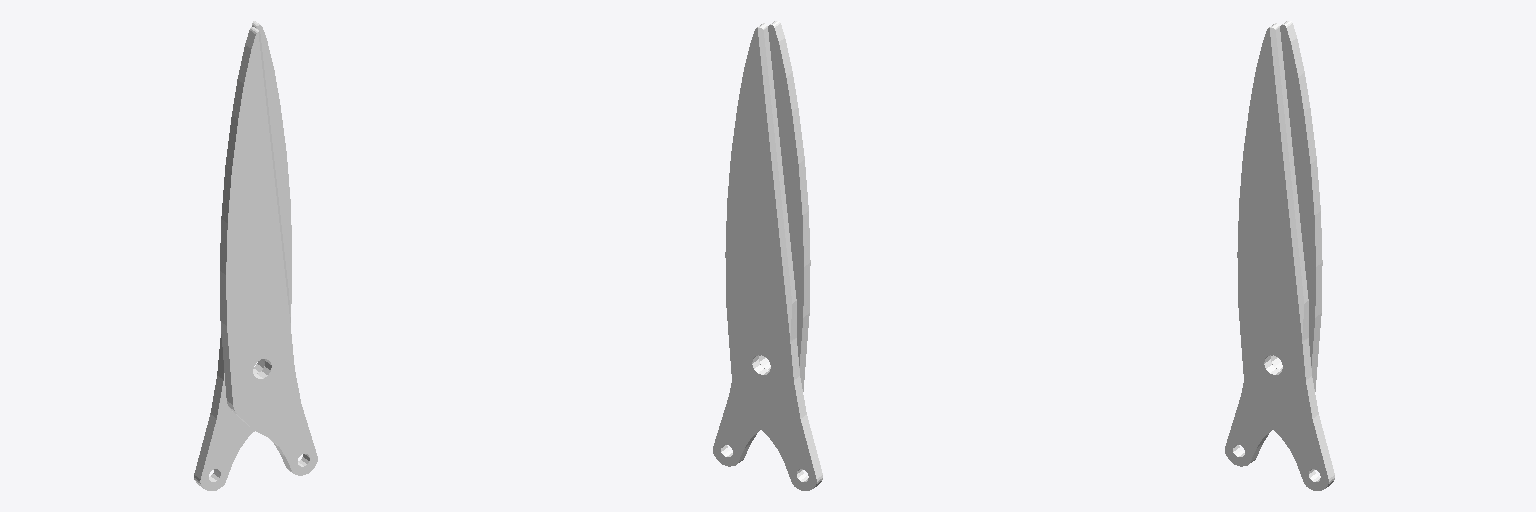
robot.urdf — only_scissors:
<?xml version="1.0" encoding="utf-8"?>
<!-- This URDF was automatically created by SolidWorks to URDF Exporter! Originally created by [author] ([email redacted]) 
     Commit Version: 1.6.0-4-g7f85cfe  Build Version: 1.6.7995.38578
     For more information, please see http://wiki.ros.org/sw_urdf_exporter -->
<robot
  name="only_scissors">
  <link name="base"/>
  <link
    name="link_0">
    <inertial>
      <origin
        xyz="0 0 0"
        rpy="0 0 0" />
      <mass
        value="0" />
      <inertia
        ixx="0"
        ixy="0"
        ixz="0"
        iyy="0"
        iyz="0"
        izz="0" />
    </inertial>
    <visual>
      <origin
        xyz="0 0 0"
        rpy="0 0 0" />
      <geometry>
        <mesh
          filename="package://only_scissors/meshes/link_r.STL" />
      </geometry>
      <material
        name="">
        <color
          rgba="1 1 1 1" />
      </material>
    </visual>
    <collision>
      <origin
        xyz="0 0 0"
        rpy="0 0 0" />
      <geometry>
        <mesh
          filename="package://only_scissors/meshes/link_r.STL" />
      </geometry>
    </collision>
  </link>

  <link
    name="link_1">
    <inertial>
      <origin
        xyz="0 0 0"
        rpy="0 0 0" />
      <mass
        value="0" />
      <inertia
        ixx="0"
        ixy="0"
        ixz="0"
        iyy="0"
        iyz="0"
        izz="0" />
    </inertial>
    <visual>
      <origin
        xyz="0 0 0"
        rpy="0 0 0" />
      <geometry>
        <mesh
          filename="package://only_scissors/meshes/link_l.STL" />
      </geometry>
      <material
        name="">
        <color
          rgba="1 1 1 1" />
      </material>
    </visual>
    <collision>
      <origin
        xyz="0 0 0"
        rpy="0 0 0" />
      <geometry>
        <mesh
          filename="package://only_scissors/meshes/link_l.STL" />
      </geometry>
    </collision>
  </link>

  <joint name="joint_0" type="revolute">
		<origin xyz="0 0 0" rpy="0 0 0"/>
		<axis xyz="0 -1 0"/>
		<child link="link_0"/>
		<parent link="link_1"/>
		<limit lower="0.0" upper="0.52"/>
	</joint>

  <joint name="joint_1" type="floating">
		<origin rpy="0 0 0" xyz="0 0 0"/>
		<child link="link_1"/>
		<parent link="base"/>
	</joint>
</robot>

--- Render facts (derived) ---
Views: 3 orthographic renders of the robot side by side, from view 1: azimuth 30°, elevation 25°; view 2: azimuth 150°, elevation 25°; view 3: azimuth 330°, elevation 25°.
Model only_scissors with 3 links and 2 joints (1 revolute, 1 floating), rooted at base, posed every joint at zero.
Links seen in each view (by area): view 1: link_0, link_1; view 2: link_1, link_0; view 3: link_0, link_1.
Boxes of the visible links, bbox=[...] form: link_0: bbox=[220, 27, 317, 475]; link_1: bbox=[194, 21, 291, 490]; link_1: bbox=[725, 23, 822, 490]; link_0: bbox=[713, 21, 810, 466]; link_0: bbox=[1237, 23, 1334, 490]; link_1: bbox=[1225, 21, 1322, 466].
Size in the robot's own frame: 0.03 by 0.006 by 0.1168 metres.
2 mesh visuals loaded from 2 distinct referenced files (2 binary STL).